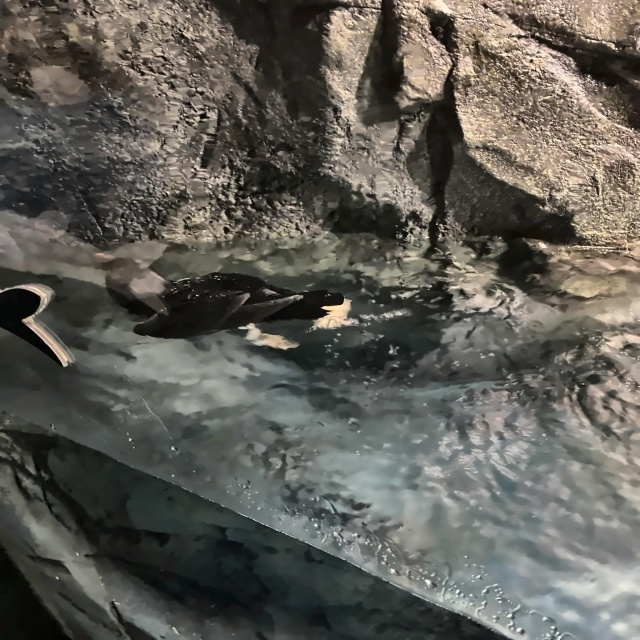puffin: (135, 264, 377, 354)
